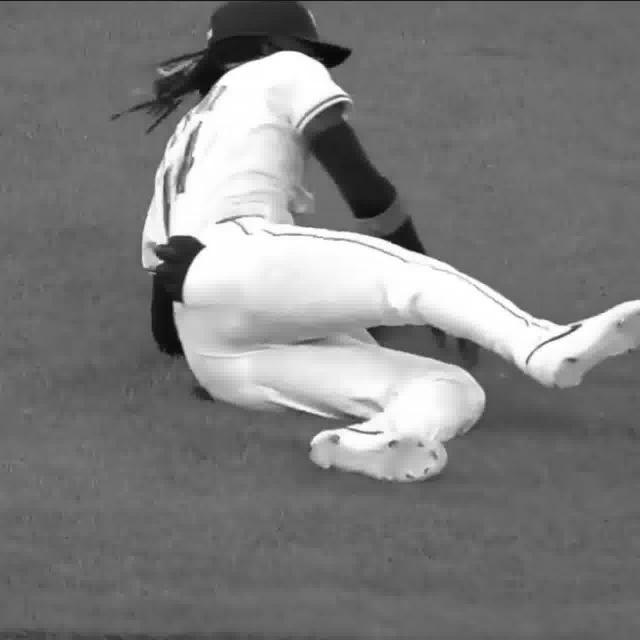shoe: (532, 300, 640, 395), (306, 431, 456, 489)
